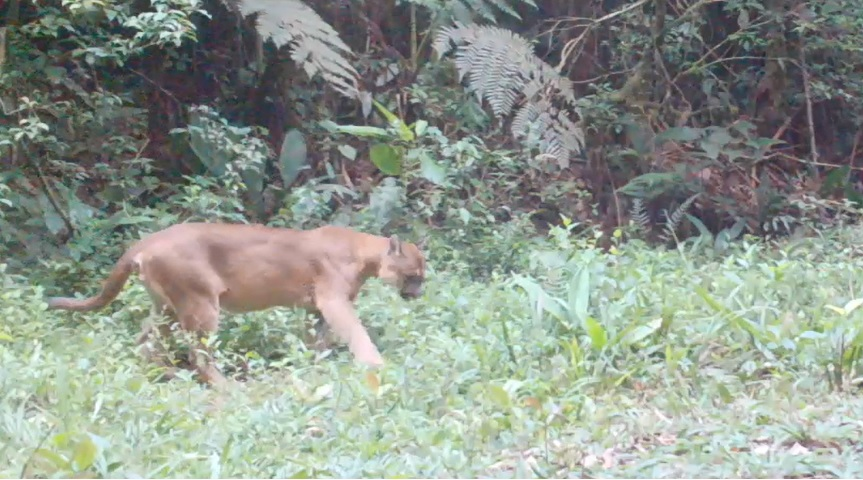OncaParda: (43, 217, 434, 392)
